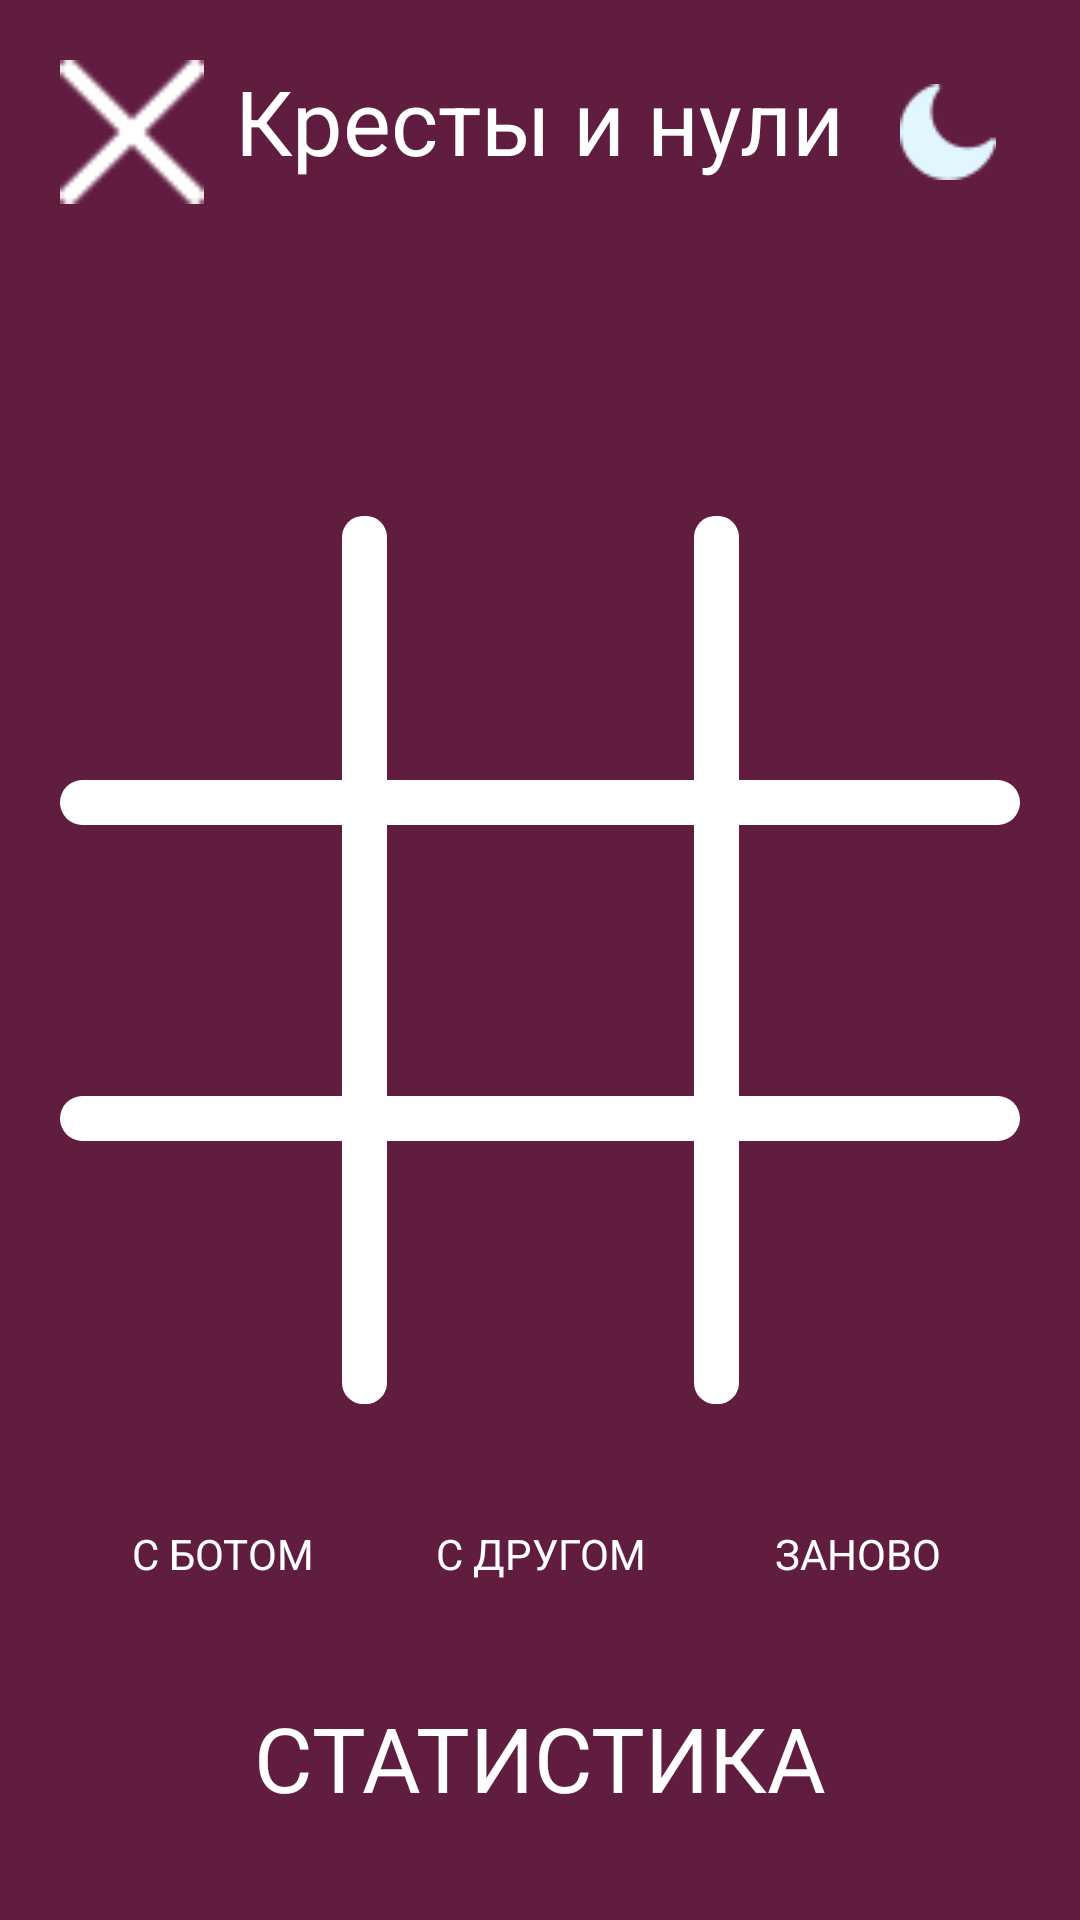

Screen size 1080 × 1920. Icon name, then its box in pixels as (x1, y1, x2, y2):
cross: (60, 60, 204, 204)
